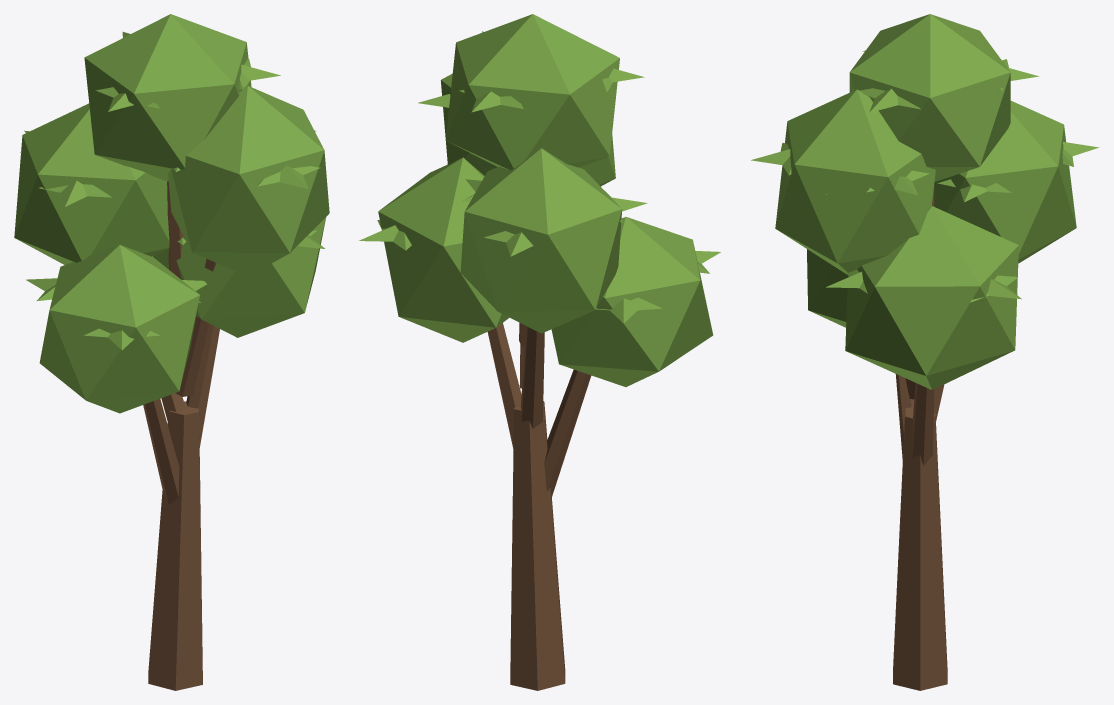
The model's file is SeasonalMaple.glb.
3 renders of one model, left to right at view 1: azimuth 30°, elevation 25°; view 2: azimuth 150°, elevation 25°; view 3: azimuth 270°, elevation 25°, orthographic.
Visible parts, largest first — view 1: SeasonalMaple_Full, SeasonalMaple_Wood; view 2: SeasonalMaple_Full, SeasonalMaple_Wood; view 3: SeasonalMaple_Full, SeasonalMaple_Wood.
Part boxes in pixels (<box>): SeasonalMaple_Full: <box>14,14,329,413</box>; SeasonalMaple_Wood: <box>143,181,219,690</box>; SeasonalMaple_Full: <box>359,14,720,386</box>; SeasonalMaple_Wood: <box>487,322,591,690</box>; SeasonalMaple_Full: <box>751,14,1099,389</box>; SeasonalMaple_Wood: <box>893,185,947,690</box>.
Size of the model in its own units: 0.8171 by 1.8 by 0.8592.
